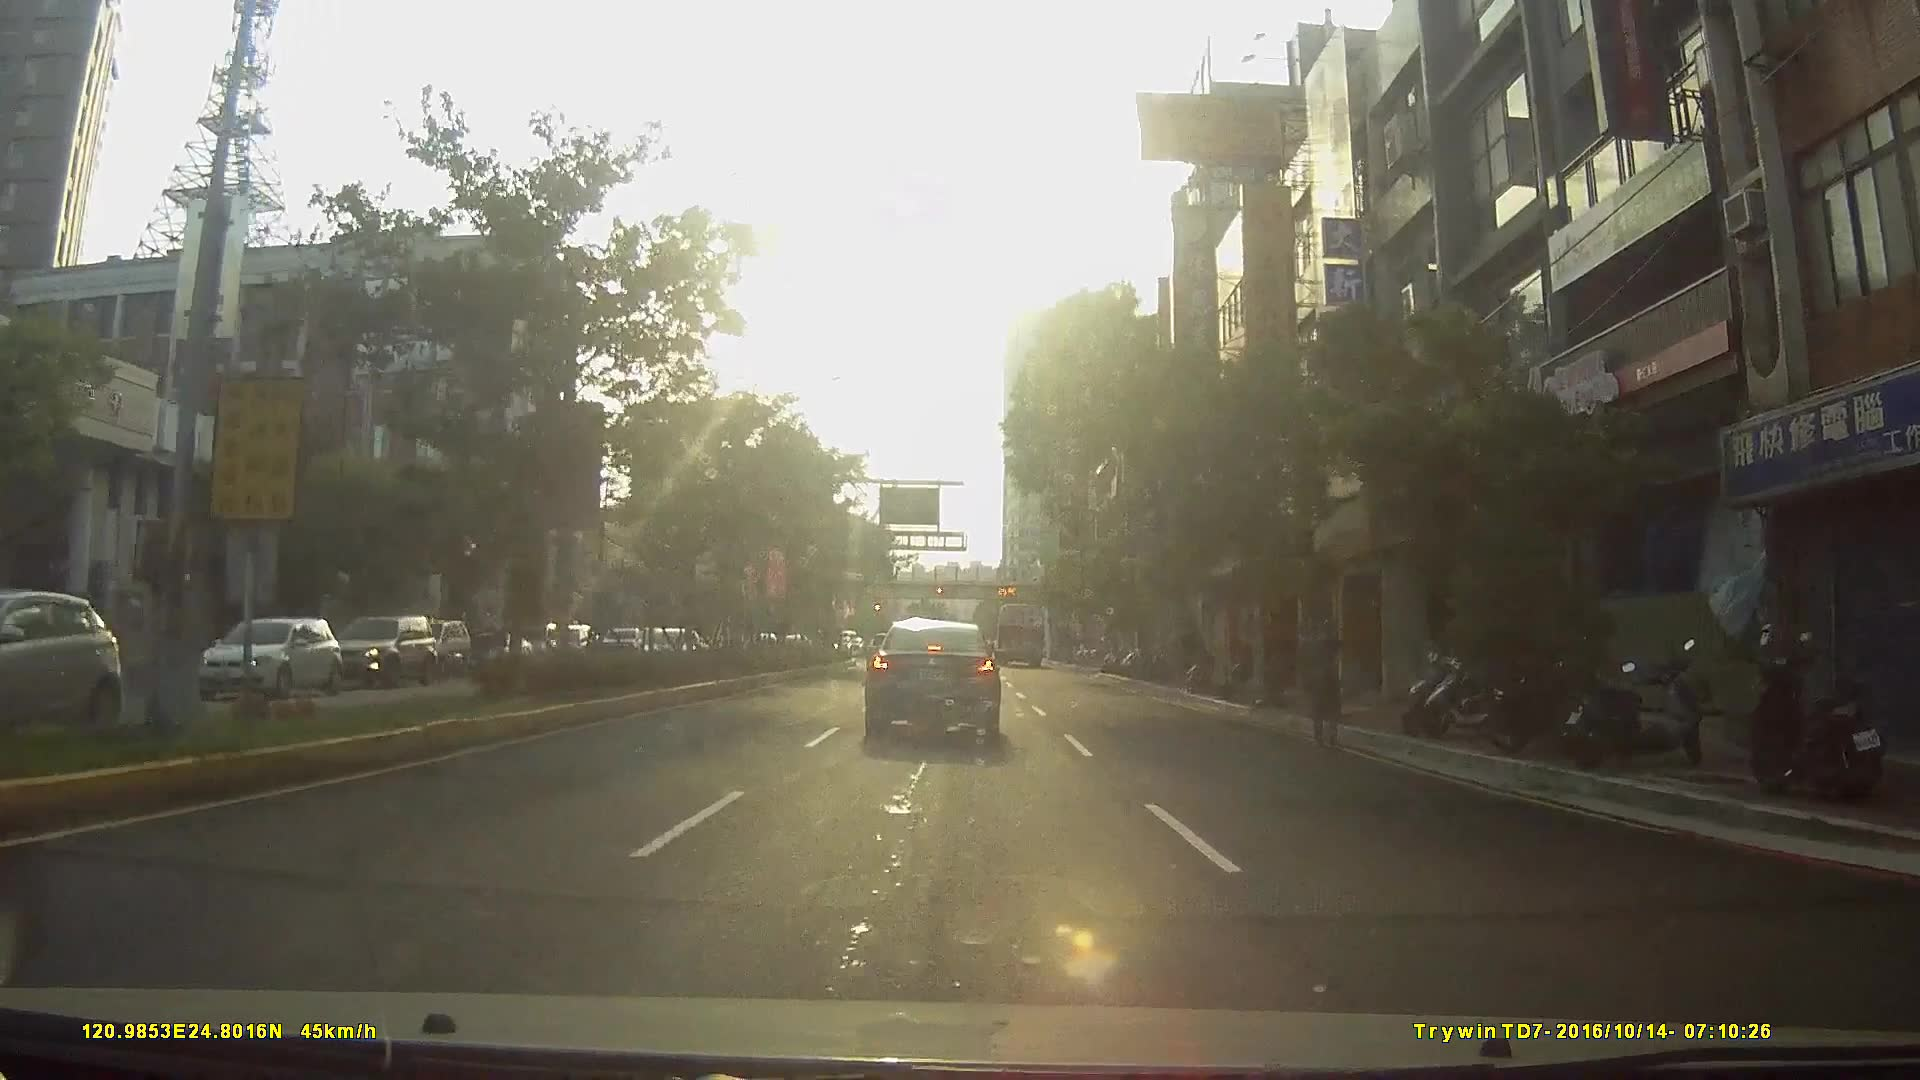pedestrian: (1300, 618, 1349, 750)
vehicle: (1, 586, 134, 747), (178, 615, 355, 710), (862, 618, 1001, 737), (312, 617, 445, 699), (401, 616, 469, 675), (995, 599, 1046, 666)
